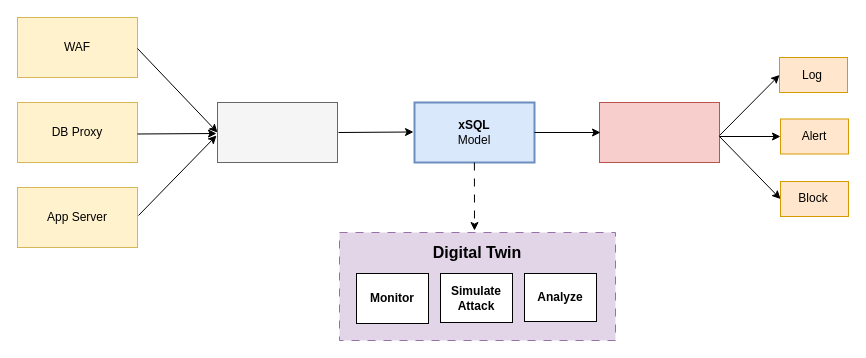
Image size: 866x358. Some labels were removed from this diagram. Each missing label, with the centre of its shape:
"Alert Dispatcher" goes at point (659, 132).
"Message Quere" goes at point (277, 132).
